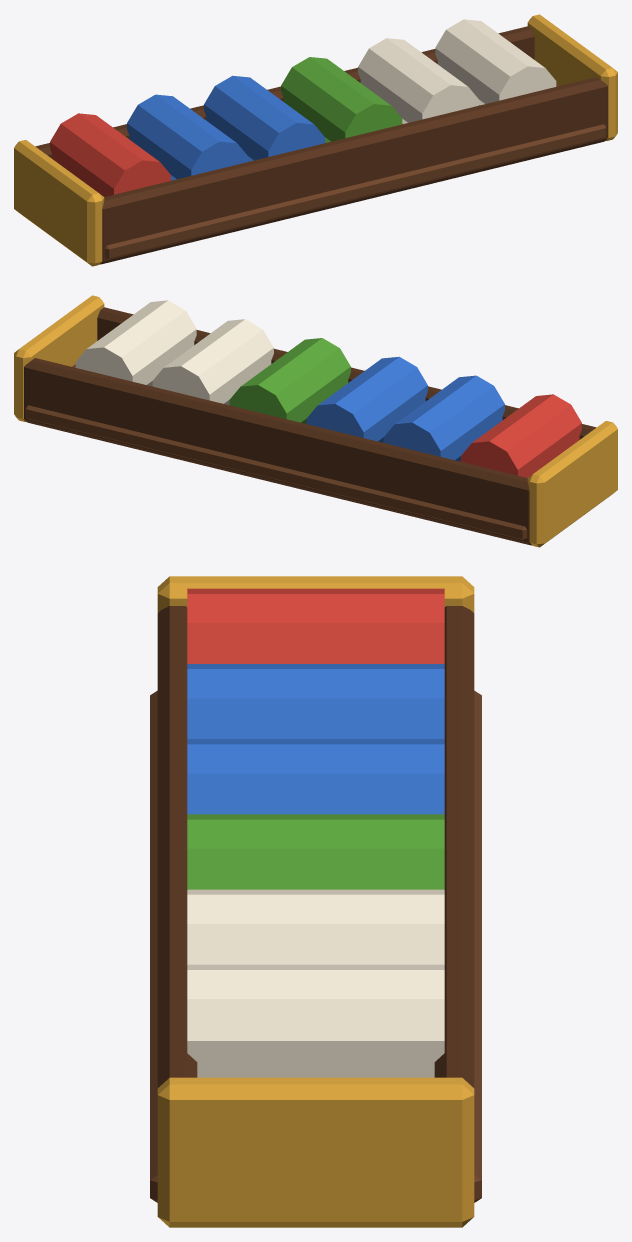
File: chip_rack.glb
3 views of the same model, one above another, from view 1: azimuth 30°, elevation 25°; view 2: azimuth 150°, elevation 25°; view 3: azimuth 270°, elevation 25° (orthographic). The views are drawn at different scales.
Visible parts, largest first — view 1: chip_rack; view 2: chip_rack; view 3: chip_rack.
Boxes of the visible parts, <box> form: chip_rack: <box>14,14,617,266</box>; chip_rack: <box>14,295,617,547</box>; chip_rack: <box>150,576,481,1227</box>.
Size of the model in its own units: 0.62 by 0.1 by 0.168.
